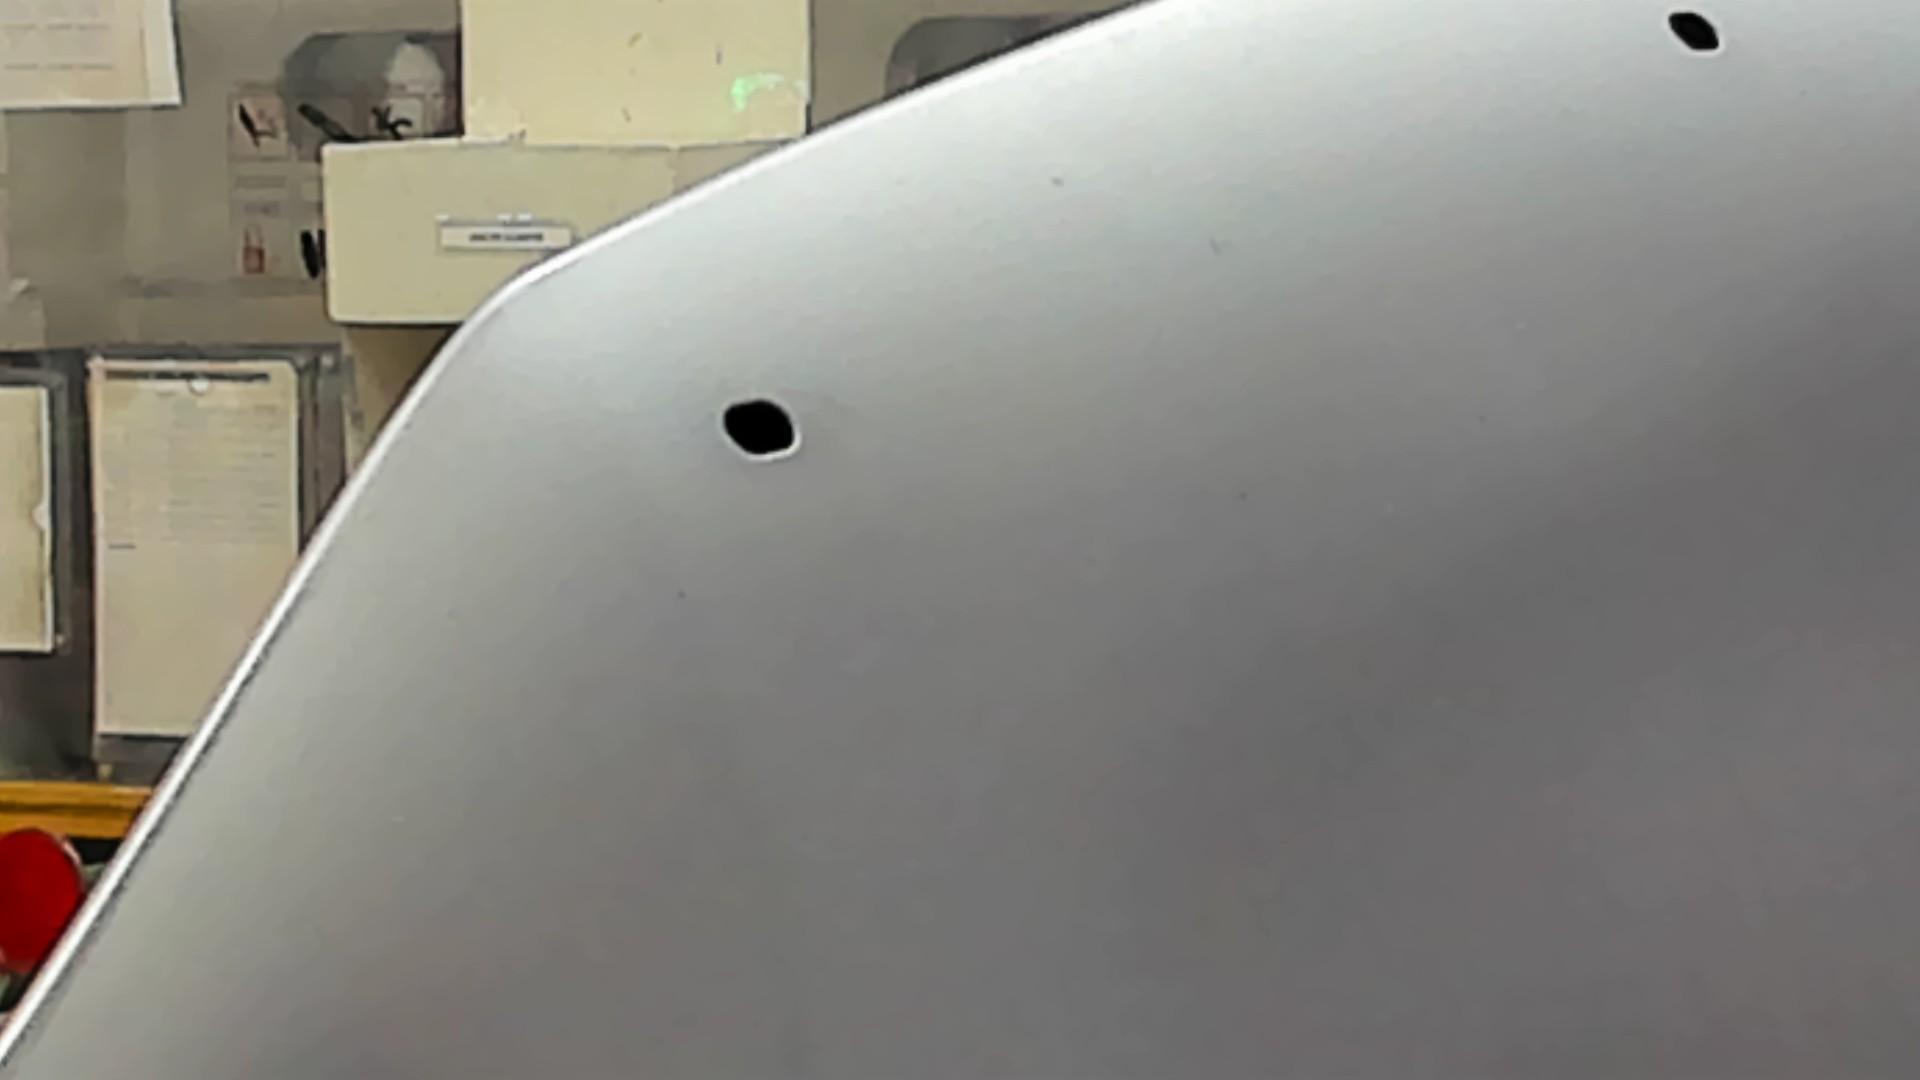chico: (713, 396, 815, 469), (1660, 4, 1737, 69)
